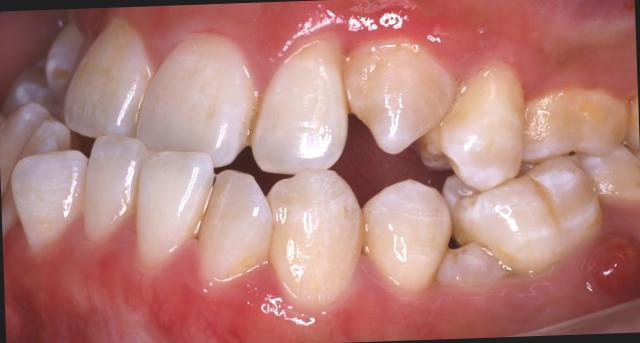canine class III 1/4: (258, 28, 456, 318)
molar class III 1/2: (447, 78, 640, 297)
